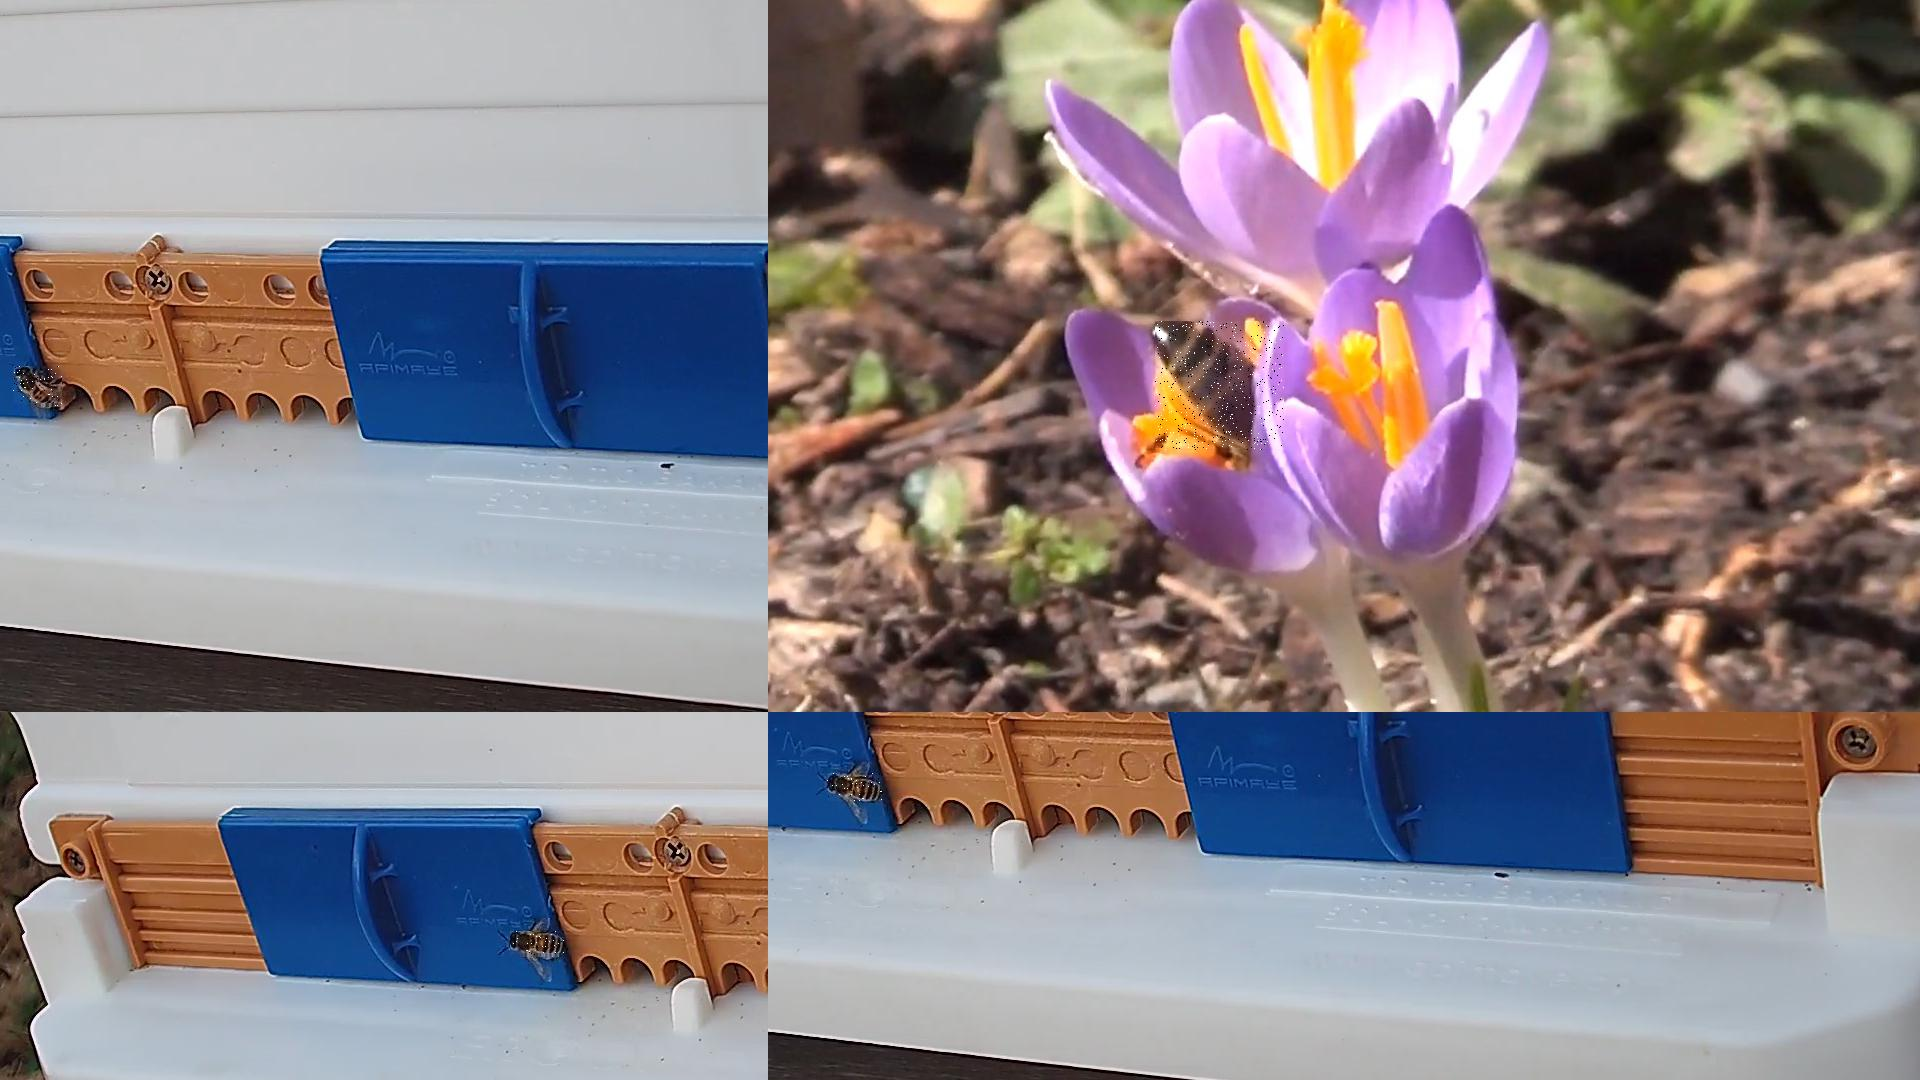bee: (1155, 322, 1286, 452), (13, 367, 63, 407), (827, 773, 884, 802), (510, 932, 566, 957)
